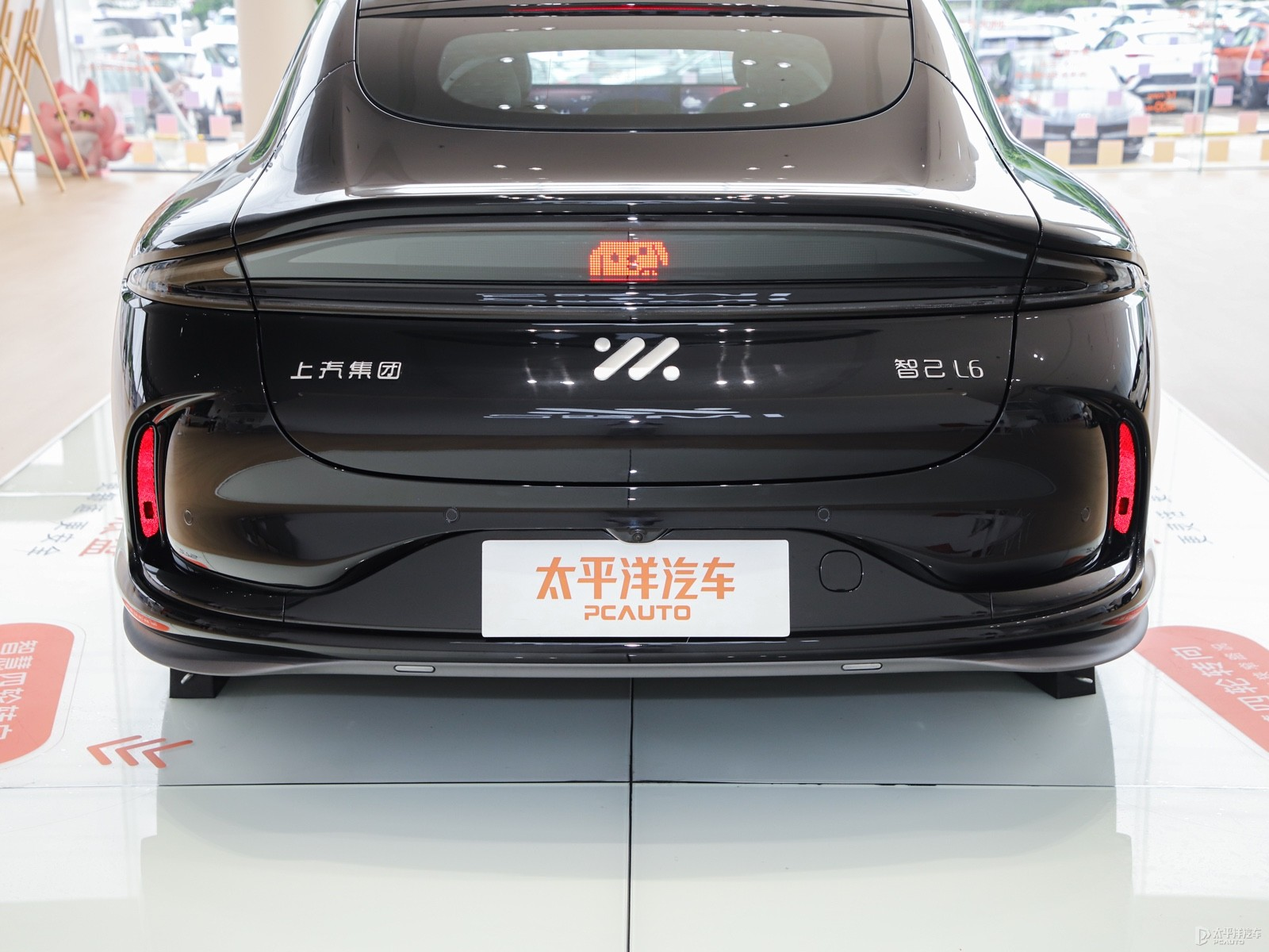IM: (595, 338, 680, 380)
